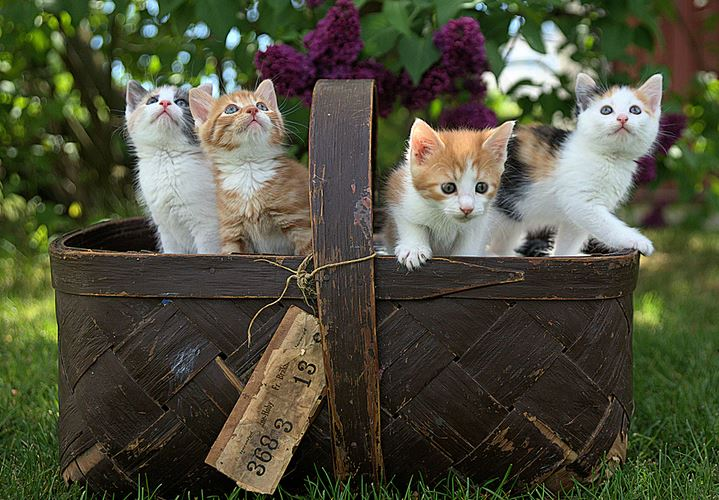cat: (512, 64, 676, 270), (188, 74, 327, 260), (375, 104, 520, 274), (115, 70, 227, 256)
